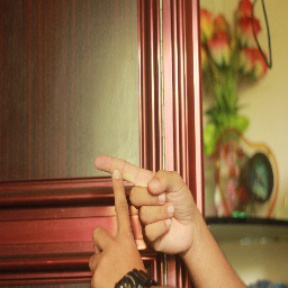T: (87, 145, 164, 261)
